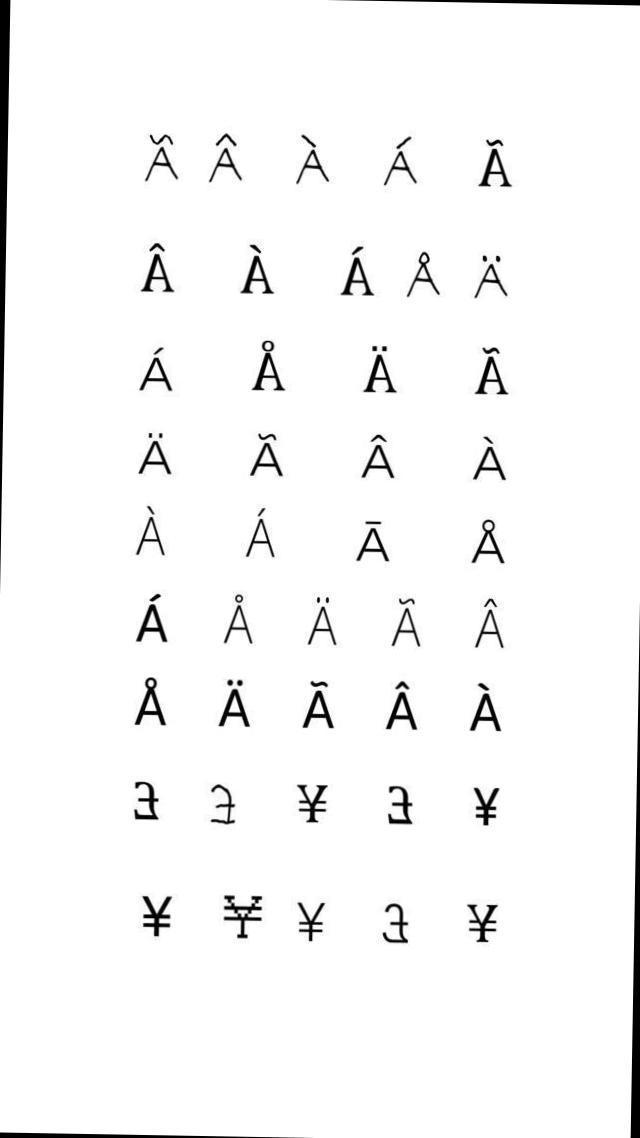ASCII: (465, 131, 530, 195), (280, 128, 340, 194), (294, 671, 351, 736), (467, 588, 521, 656), (354, 334, 404, 406), (235, 498, 289, 564), (342, 513, 400, 574), (230, 238, 282, 306), (129, 666, 176, 741), (133, 237, 185, 304), (466, 246, 522, 308), (130, 339, 186, 400), (468, 336, 516, 407), (330, 236, 380, 304), (131, 496, 182, 562), (248, 332, 296, 402), (128, 426, 184, 486), (458, 674, 508, 741), (242, 421, 290, 490), (216, 590, 266, 654), (376, 678, 426, 742), (468, 429, 518, 492), (212, 672, 259, 737), (132, 584, 178, 650), (217, 884, 264, 948), (376, 135, 426, 195), (458, 892, 508, 952), (137, 128, 186, 189), (302, 585, 346, 652), (198, 129, 247, 189), (351, 433, 400, 492), (402, 247, 448, 309), (467, 513, 514, 572), (384, 588, 426, 654), (133, 886, 179, 946), (374, 777, 424, 828), (463, 783, 508, 834), (290, 775, 330, 831), (202, 776, 240, 833), (125, 775, 166, 826), (374, 895, 412, 948), (292, 896, 327, 949)
